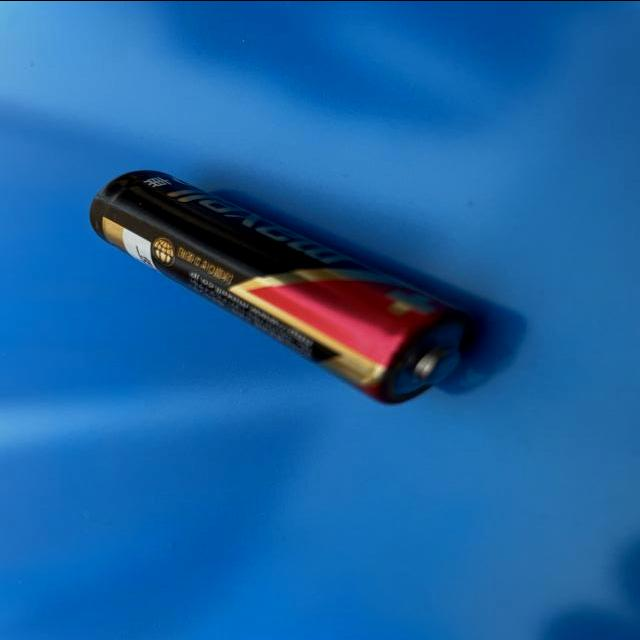AA: (90, 168, 477, 406)
